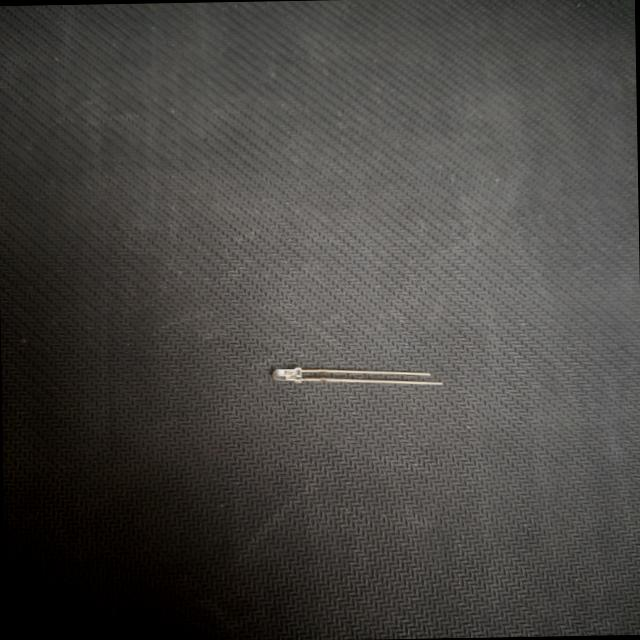led: (261, 352, 447, 400)
